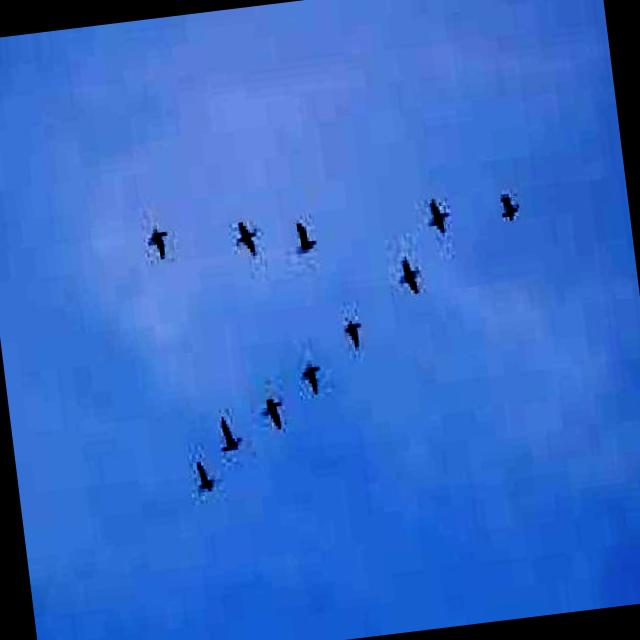bird: (406, 178, 458, 258), (389, 242, 439, 308), (136, 210, 182, 266), (484, 190, 525, 252), (329, 302, 369, 358), (296, 346, 334, 404), (256, 376, 292, 434), (288, 206, 324, 262), (230, 212, 262, 271), (210, 408, 248, 456), (186, 458, 224, 502)
